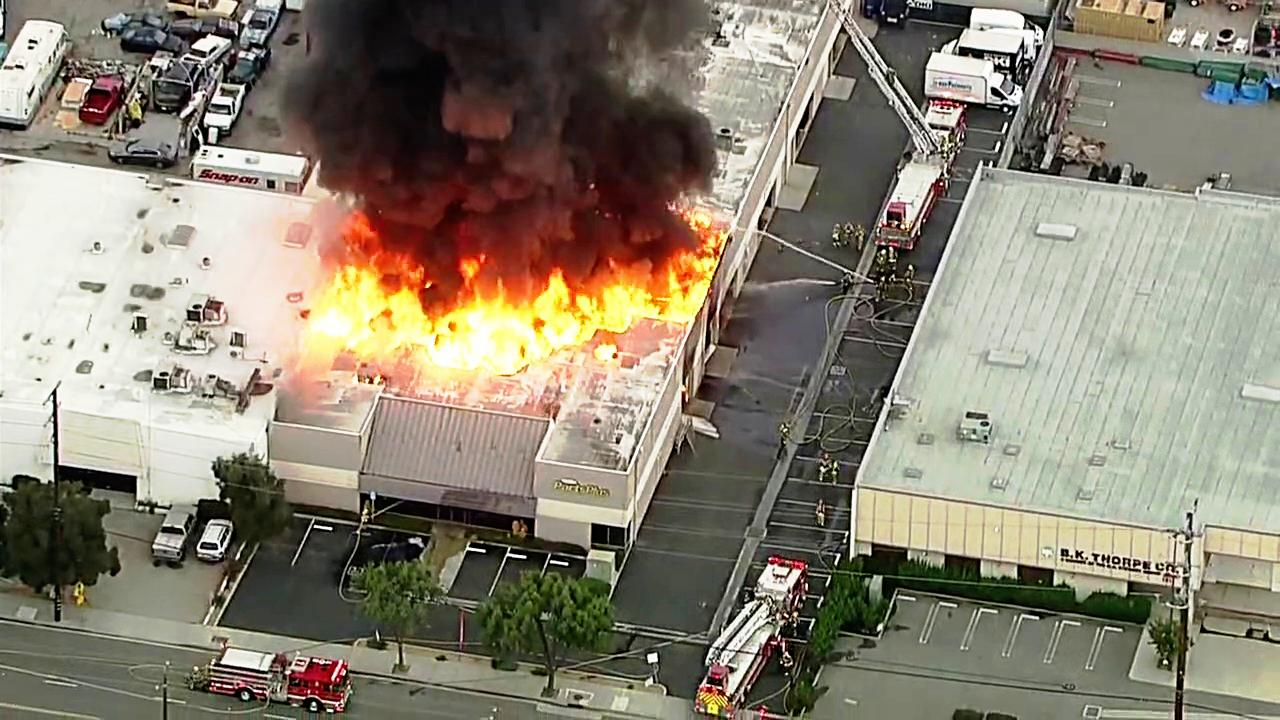fire: (314, 222, 429, 371), (559, 240, 717, 335), (426, 275, 570, 371)
smoke: (323, 0, 670, 228)
